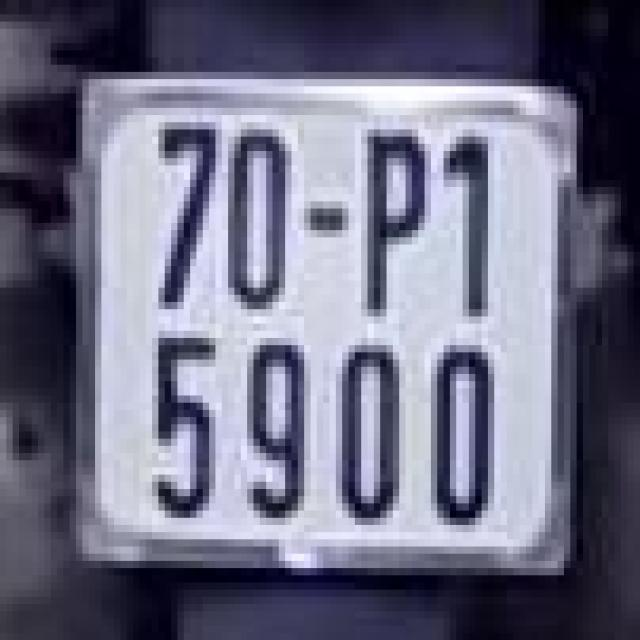0: (418, 338, 513, 532), (330, 324, 406, 539), (228, 119, 298, 320)
1: (440, 115, 510, 324)
5: (149, 317, 225, 532)
7: (143, 111, 225, 313)
9: (241, 334, 310, 536)
P: (349, 115, 437, 331)
